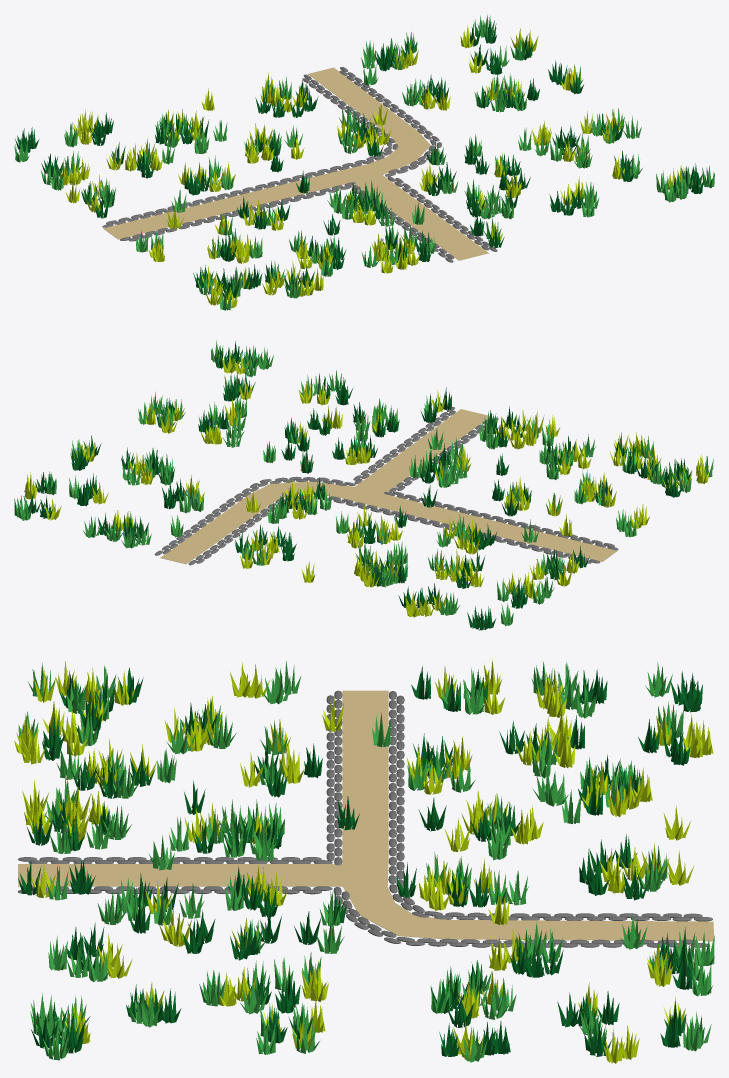
The model's file is sstrail.fbx.
3 renders of one model, top to bottom at view 1: azimuth 30°, elevation 25°; view 2: azimuth 150°, elevation 25°; view 3: azimuth 270°, elevation 25°, orthographic. The views are drawn at different scales.
Visible parts, largest first — view 1: Cube; view 2: Cube; view 3: Cube.
Part boxes in pixels (<box>): Cube: <box>103,67,488,260</box>; Cube: <box>160,409,617,564</box>; Cube: <box>18,690,713,941</box>.
Bounding box in the file's own units: 3110 × 139 × 2442.
